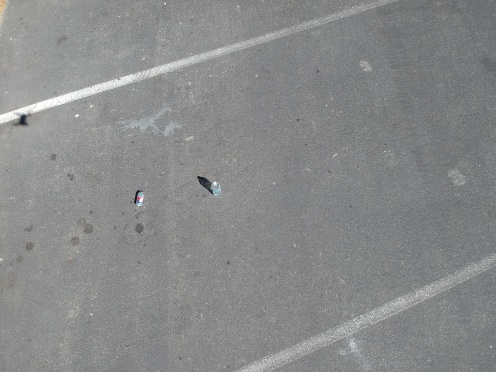bottle: (205, 179, 223, 198)
can: (129, 188, 149, 210)
